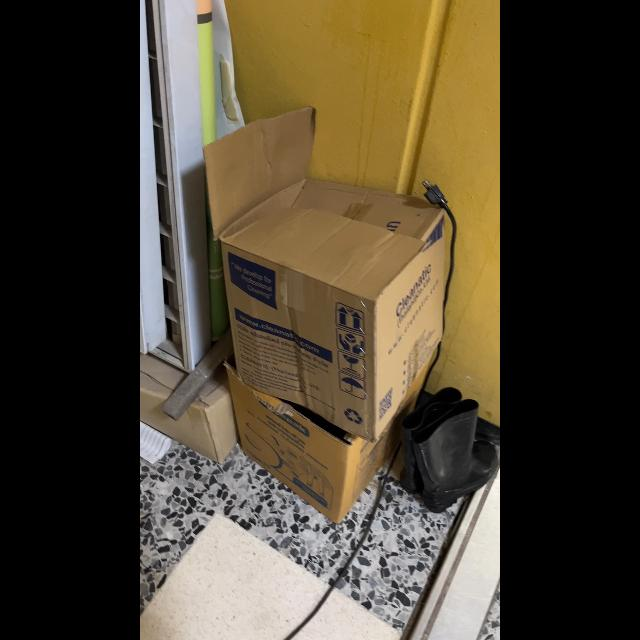cardboard_box: (199, 103, 459, 421), (220, 359, 402, 526)
